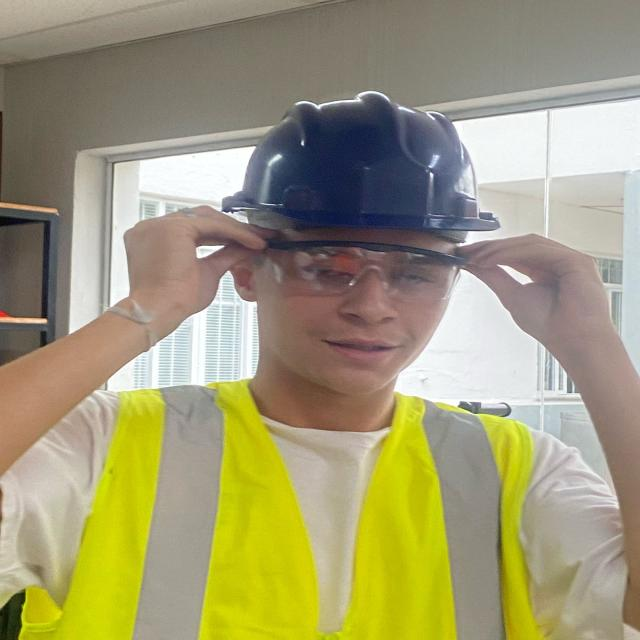CAPACETE: (215, 92, 500, 237)
COLETE: (16, 373, 570, 639)
OCULOS: (262, 231, 475, 305)
SEM LUVA: (90, 196, 271, 346), (456, 230, 622, 360)
